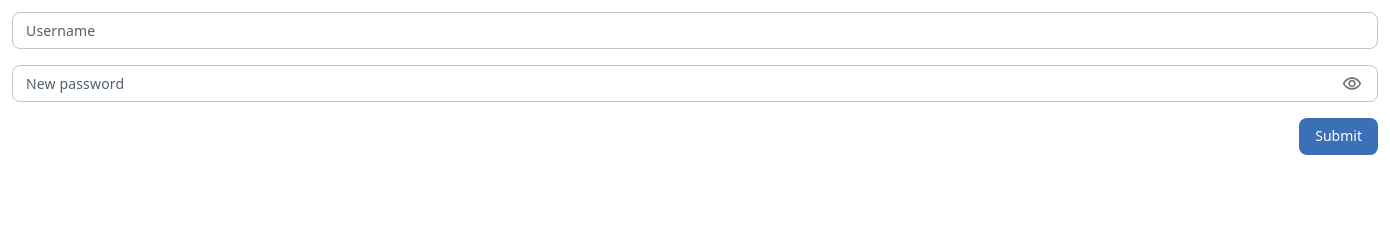
Test: AppForm › shows the API message in an alert when there are no field errors
Type "admin" into the field labelled "Username" at (695, 31), box [12,12,1378,49]
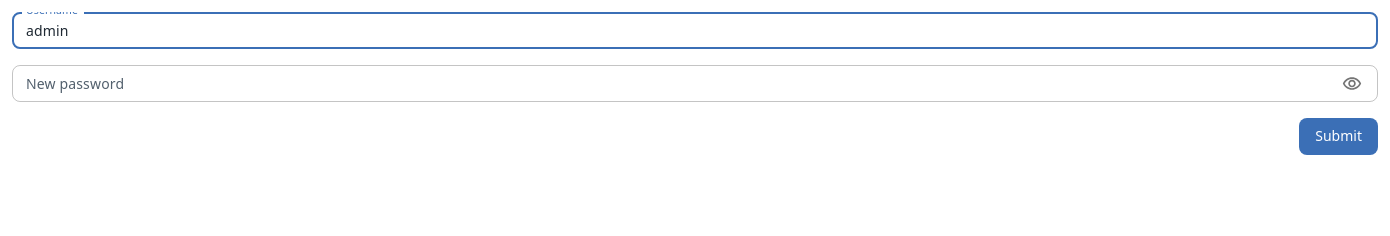
Click the button "Submit" at (1339, 137), box [1299,118,1378,155]
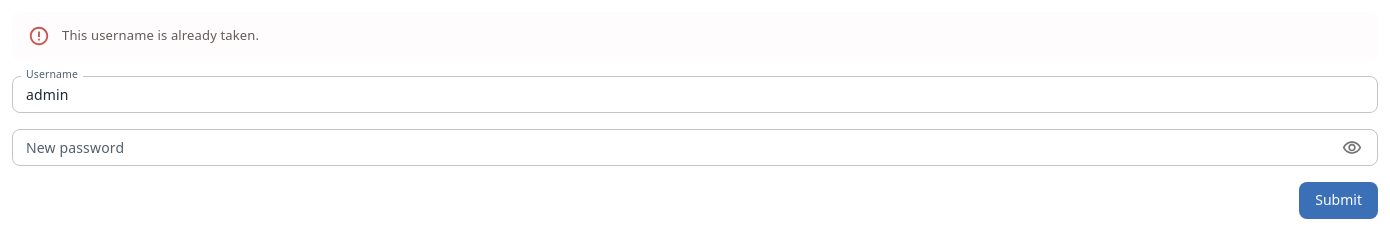
expect the message reads "This username is already taken.": met, box [62,26,259,44]
